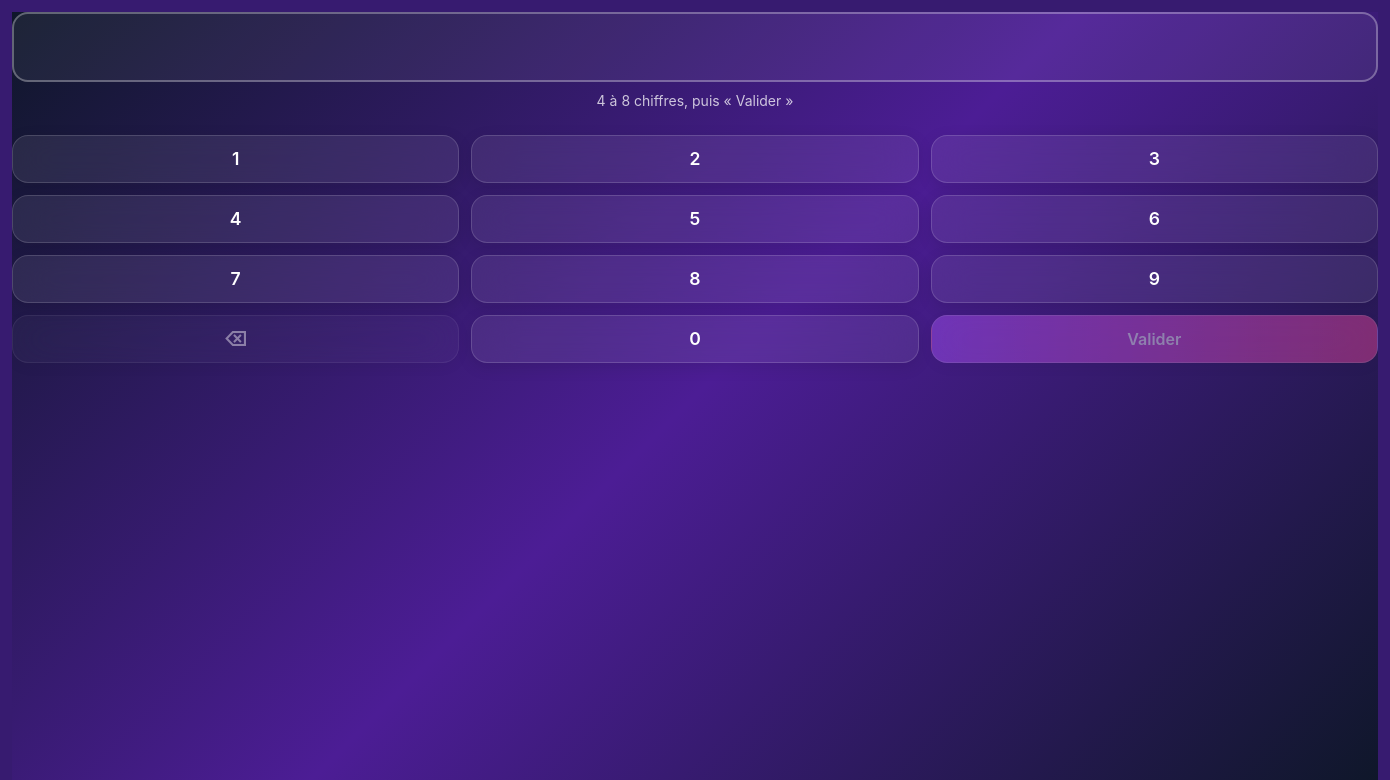
Test case: PinPad › ne garde que les chiffres et s'arrête à 8 (envoi automatique)
In the password field: (695, 47) left=12, top=12, right=1378, bottom=82, type "12a3-4567 89"
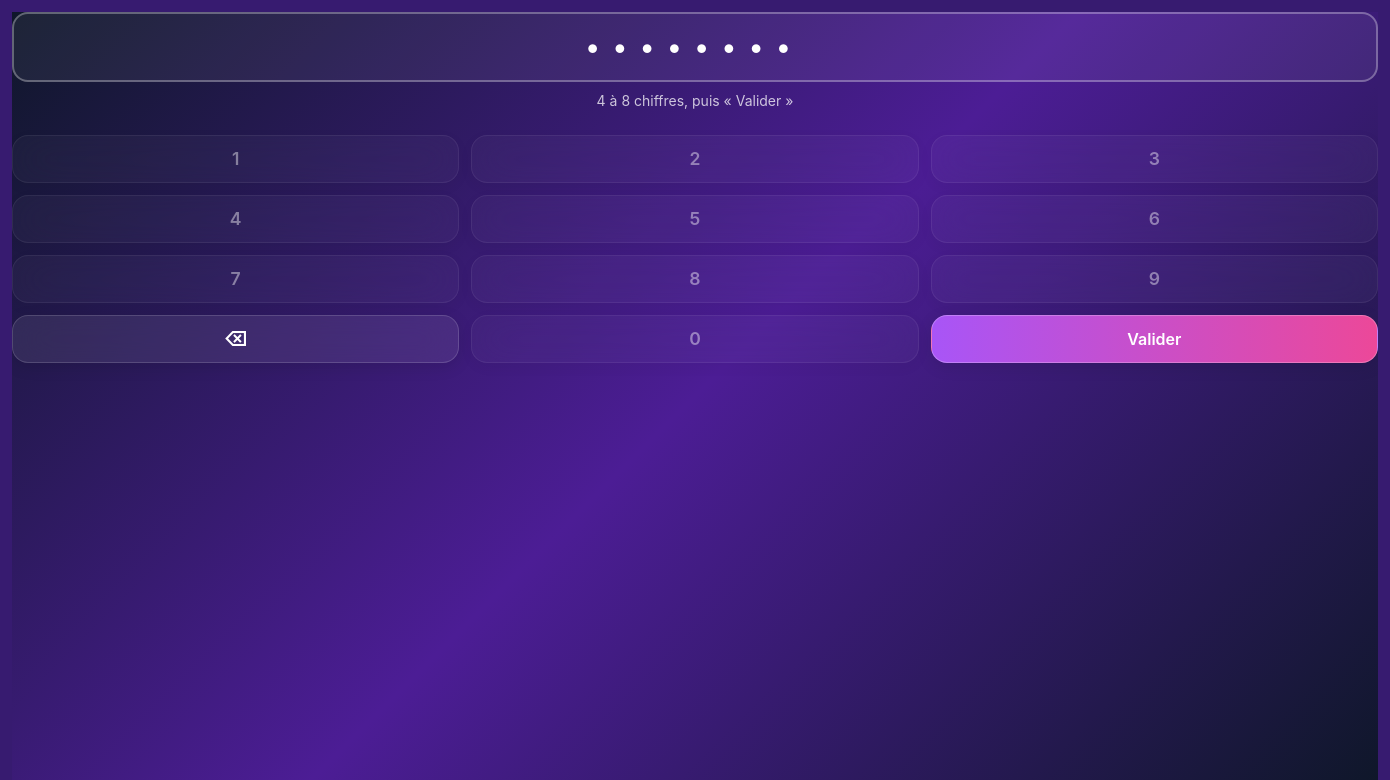
Expected: the password field holds "12345678", left=12, top=12, right=1378, bottom=82
Expected: the button "9" is disabled, left=931, top=255, right=1378, bottom=303
